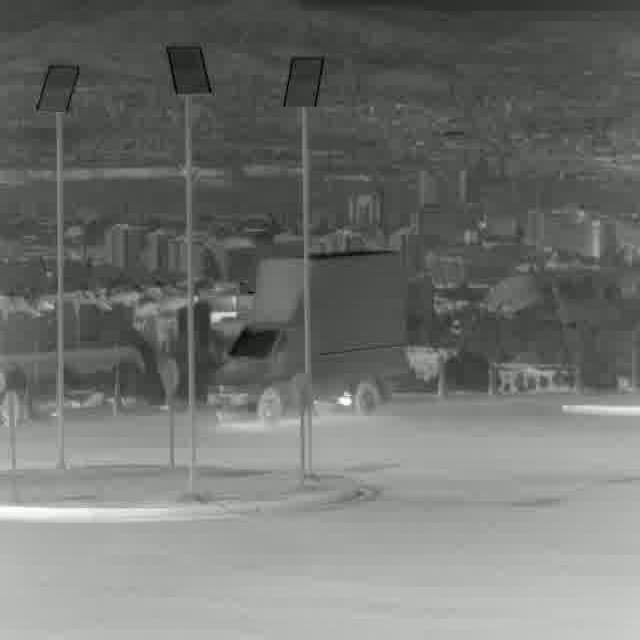Car: (216, 252, 402, 421)
